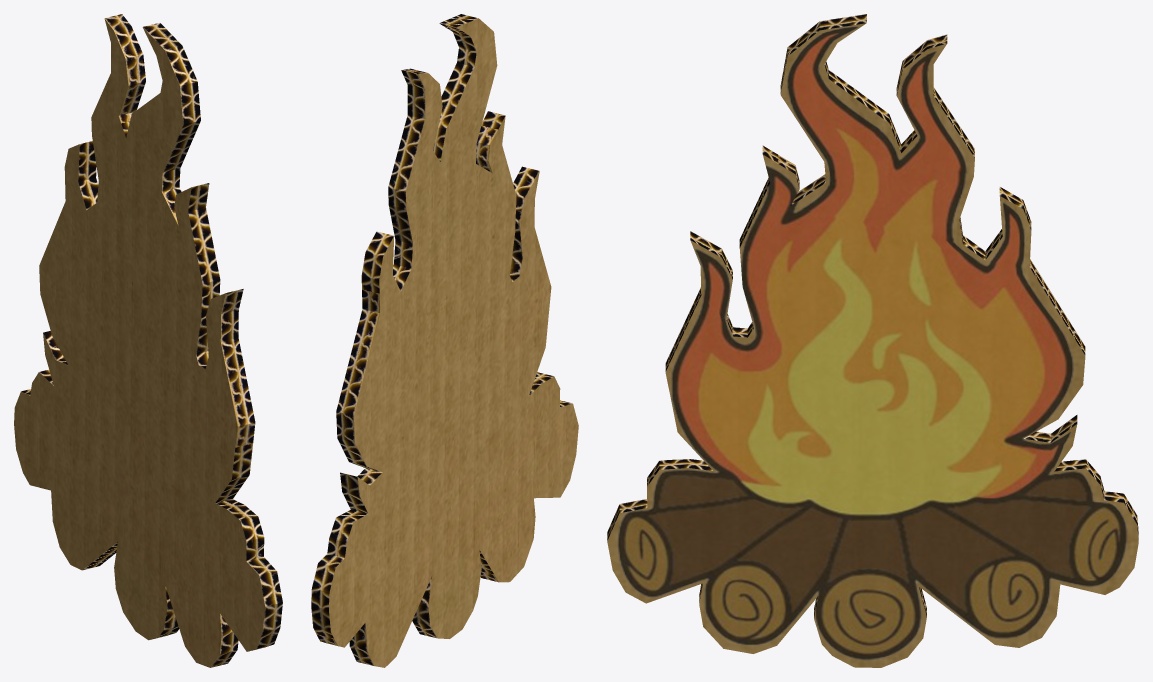
Rendered from AST_GRAPH_feu_2_GJ.fbx.
3 renders of one model, left to right at view 1: azimuth 30°, elevation 25°; view 2: azimuth 150°, elevation 25°; view 3: azimuth 270°, elevation 25°, orthographic. The views are drawn at different scales.
Visible parts, largest first — view 1: CAMPFIRE; view 2: CAMPFIRE; view 3: CAMPFIRE.
Part boxes in pixels (x1,y1,x2,y2): CAMPFIRE: (14, 14, 282, 667); CAMPFIRE: (311, 14, 578, 667); CAMPFIRE: (607, 14, 1138, 667).
Size of the model in its own units: 2 by 65.53 by 48.95.
